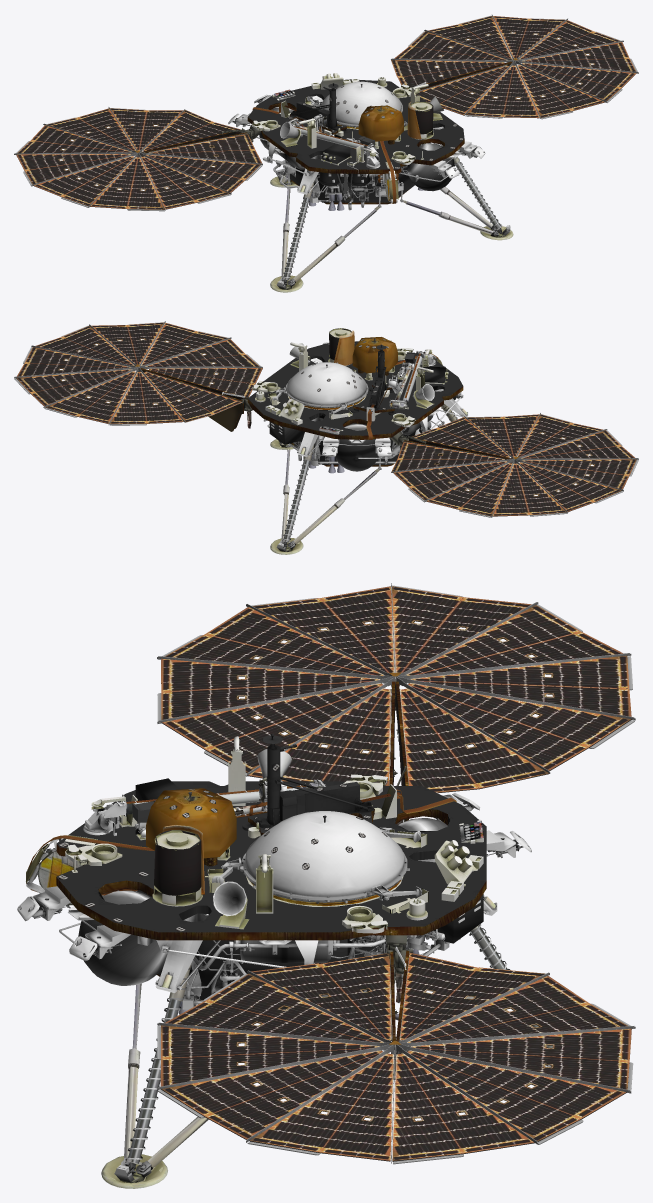
Rendered from insight-lander-b.glb.
The picture shows the model from 3 angles, top to bottom: view 1: azimuth 30°, elevation 25°; view 2: azimuth 150°, elevation 25°; view 3: azimuth 270°, elevation 25°; orthographic projection. The views are drawn at different scales.
Parts seen in each view (by area): view 1: deck, SEIS, Cube.079, arm_01, cable_02; view 2: deck, SEIS, Cube.079, arm_01; view 3: deck, SEIS, Cube.079, arm_01, cable_02.
Boxes of the visible parts, left/top/right/bottom form: deck: left=14, top=14, right=638, bottom=292; SEIS: left=290, top=81, right=407, bottom=202; Cube.079: left=391, top=60, right=504, bottom=89; arm_01: left=288, top=114, right=379, bottom=167; cable_02: left=284, top=105, right=396, bottom=203; deck: left=14, top=321, right=638, bottom=554; SEIS: left=272, top=337, right=423, bottom=414; Cube.079: left=144, top=372, right=241, bottom=422; arm_01: left=388, top=349, right=435, bottom=407; deck: left=17, top=583, right=635, bottom=1188; SEIS: left=124, top=779, right=422, bottom=903; Cube.079: left=399, top=952, right=545, bottom=1040; arm_01: left=84, top=779, right=326, bottom=837; cable_02: left=26, top=785, right=401, bottom=906.
Bounding box in the file's own units: 6.14 × 1.58 × 2.77.
Materials: 11 (11 with a texture image).
